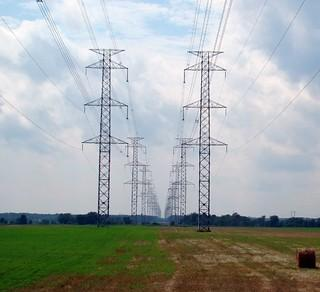power_tower: (78, 44, 132, 227), (179, 48, 231, 234)
